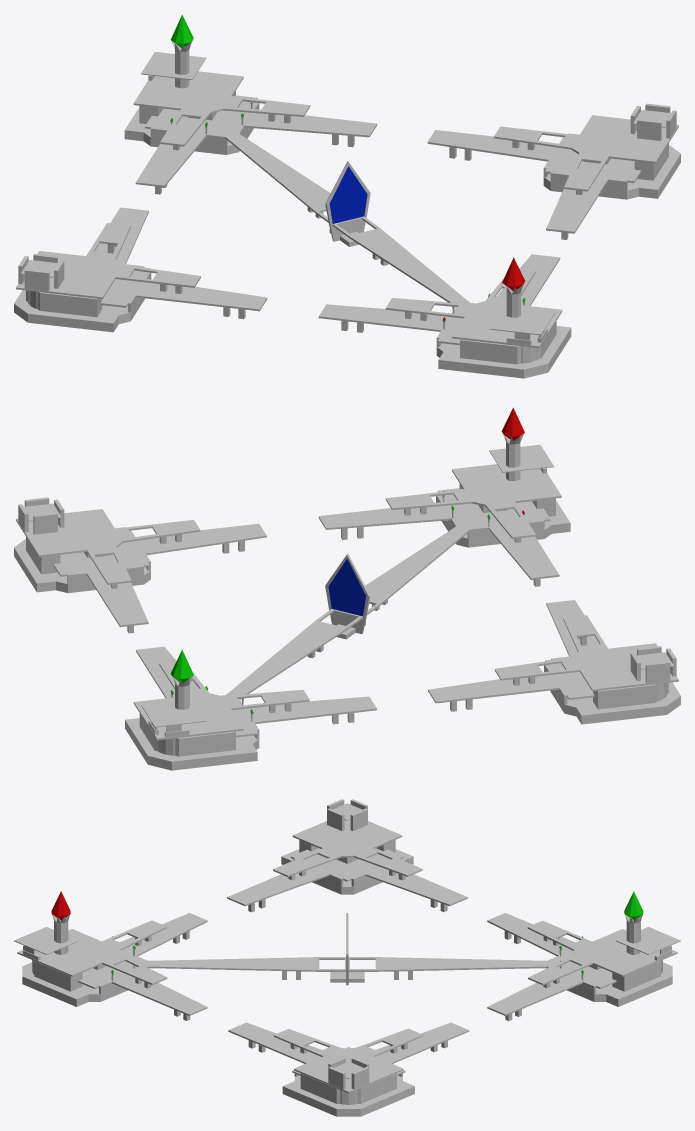
3 renders of one model, top to bottom at view 1: azimuth 30°, elevation 25°; view 2: azimuth 150°, elevation 25°; view 3: azimuth 270°, elevation 25°, orthographic. The views are drawn at different scales.
Visible parts, largest first — view 1: Cube.034_Cube.060_Tiles, Cube.056_Cube.107_Tiles, Cube.067_Cube.118_Tiles, Cube.017_Cube.168_Tiles, Cube.071_Cube.198_Tiles, Cube.083_Cube.205_Tiles, Cube.061_Cube.196_Tiles, Cube.022_Cube.170_Tiles, Cube.041_Cube.181_StonewalkRed, Cube.0021_Cube.295_StonewalkGreen, Cube.012_Cube.021_TileDark, Cube.065_Cube.116_TileDark (+30 smaller); view 2: Cube.022_Cube.170_Tiles, Cube.056_Cube.107_Tiles, Cube.067_Cube.118_Tiles, Cube.061_Cube.196_Tiles, Cube.071_Cube.198_Tiles, Cube.017_Cube.168_Tiles, Cube.083_Cube.205_Tiles, Cube.034_Cube.060_Tiles, Cube.0021_Cube.295_StonewalkGreen, Cube.041_Cube.181_StonewalkRed, Cube.039_Cube.179_TileDark, Cube.065_Cube.116_TileDark (+30 smaller); view 3: Cube.071_Cube.198_Tiles, Cube.083_Cube.205_Tiles, Cube.034_Cube.060_Tiles, Cube.022_Cube.170_Tiles, Cube.067_Cube.118_Tiles, Cube.061_Cube.196_Tiles, Cube.017_Cube.168_Tiles, Cube.056_Cube.107_Tiles, Cube.0021_Cube.295_StonewalkGreen, Cube.041_Cube.181_StonewalkRed, Cube.064_Cube.115_Brick, Cube.081_Cube.203_TileDark (+30 smaller).
Boxes of the visible parts, x1,y1,x2,y2 form: Cube.034_Cube.060_Tiles: (134,71,243,111); Cube.056_Cube.107_Tiles: (571,115,678,161); Cube.067_Cube.118_Tiles: (431,131,603,230); Cube.017_Cube.168_Tiles: (139,113,373,183); Cube.071_Cube.198_Tiles: (16,251,122,297); Cube.083_Cube.205_Tiles: (96,209,263,307); Cube.061_Cube.196_Tiles: (322,255,556,328); Cube.022_Cube.170_Tiles: (452,301,561,346); Cube.041_Cube.181_StonewalkRed: (352,229,463,302); Cube.0021_Cube.295_StonewalkGreen: (232,137,329,210); Cube.012_Cube.021_TileDark: (145,96,257,136); Cube.065_Cube.116_TileDark: (545,133,640,181); Cube.022_Cube.170_Tiles: (452,464,561,504); Cube.056_Cube.107_Tiles: (16,509,122,555); Cube.067_Cube.118_Tiles: (91,525,262,623); Cube.061_Cube.196_Tiles: (322,506,555,576); Cube.071_Cube.198_Tiles: (572,643,678,689); Cube.017_Cube.168_Tiles: (140,648,372,720); Cube.083_Cube.205_Tiles: (432,601,598,699); Cube.034_Cube.060_Tiles: (134,693,243,738); Cube.0021_Cube.295_StonewalkGreen: (232,621,343,694); Cube.041_Cube.181_StonewalkRed: (366,530,463,603); Cube.039_Cube.179_TileDark: (437,488,549,529); Cube.065_Cube.116_TileDark: (54,527,149,574); Cube.071_Cube.198_Tiles: (293,820,401,855); Cube.083_Cube.205_Tiles: (231,867,463,903); Cube.034_Cube.060_Tiles: (574,929,677,975); Cube.022_Cube.170_Tiles: (17,929,120,975); Cube.067_Cube.118_Tiles: (232,1024,465,1061); Cube.061_Cube.196_Tiles: (114,914,203,1012); Cube.017_Cube.168_Tiles: (491,914,580,1012); Cube.056_Cube.107_Tiles: (294,1048,403,1091); Cube.0021_Cube.295_StonewalkGreen: (375,958,538,968); Cube.041_Cube.181_StonewalkRed: (156,958,319,968); Cube.064_Cube.115_Brick: (300,1073,396,1103); Cube.081_Cube.203_TileDark: (291,848,403,880).
Bounding box in the file's own units: 778 × 114 × 783.
